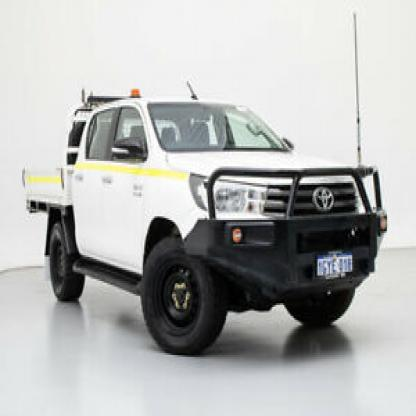light_vehicle: (14, 80, 390, 352)
